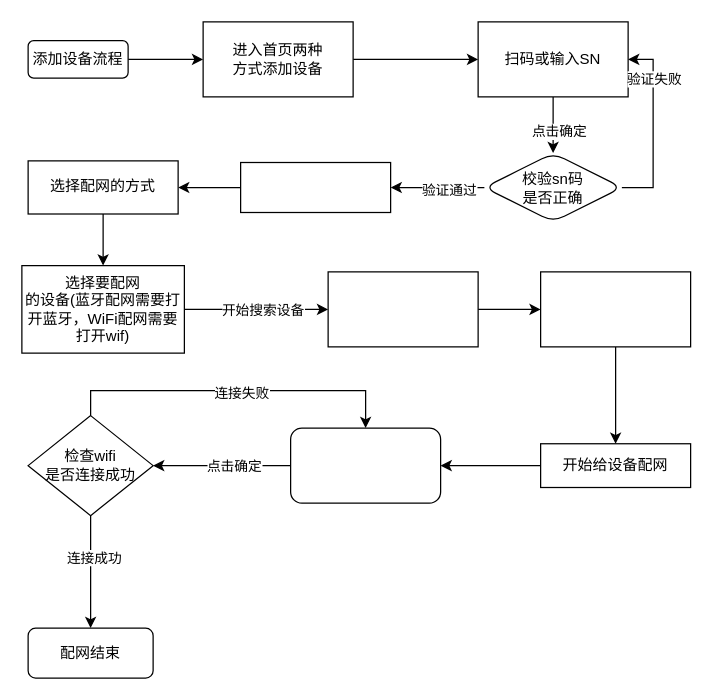
Image size: 713x700. Some labels were removed from this diagram. Each missing label, with the centre of its shape:
"搜索到设备之后 点击你想要的 连接的设备" goes at [402,309].
"等待连接蓝牙或者 wifi连接成功" goes at [615,309].
"跳转配网阶段" goes at [315,186].
"输入wifi名称 wifi密码" goes at [365,465].
